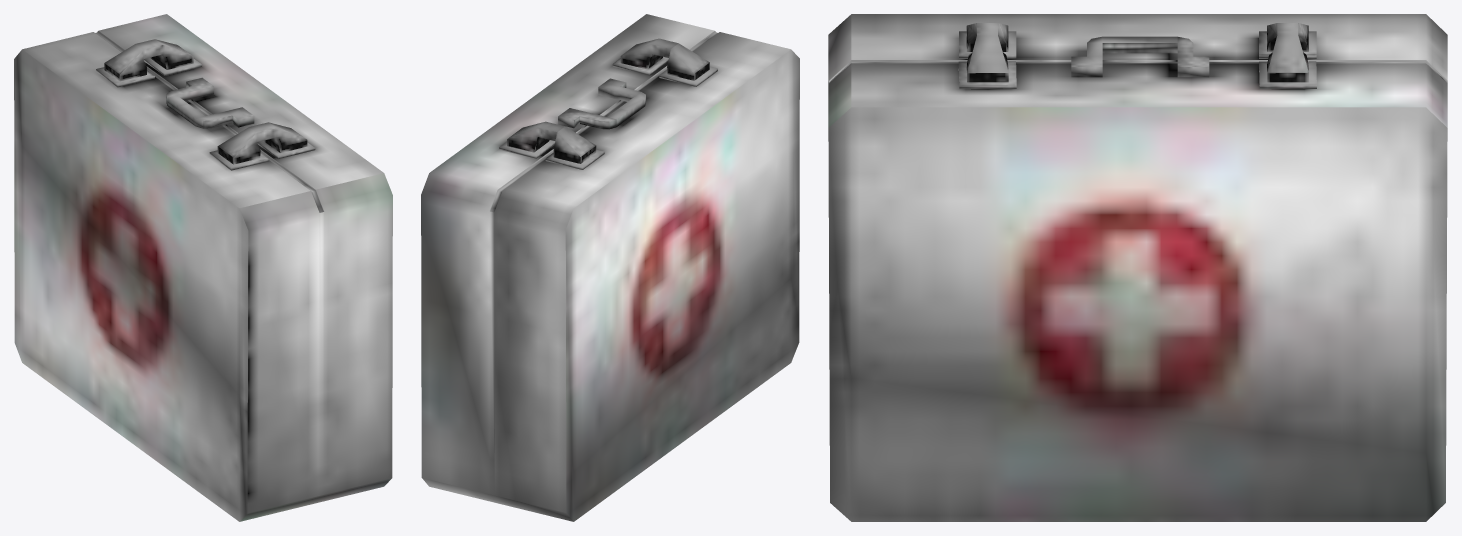
File: first aid(p3k).fbx
3 views of the same model, side by side, from view 1: azimuth 30°, elevation 25°; view 2: azimuth 150°, elevation 25°; view 3: azimuth 270°, elevation 25° (orthographic). The views are drawn at different scales.
Parts seen in each view (by area): view 1: First Aid; view 2: First Aid; view 3: First Aid.
Part boxes in pixels (<box>): First Aid: <box>14,14,392,521</box>; First Aid: <box>421,14,799,521</box>; First Aid: <box>828,14,1447,521</box>.
Size of the model in its own units: 17.15 by 38.33 by 48.06.
